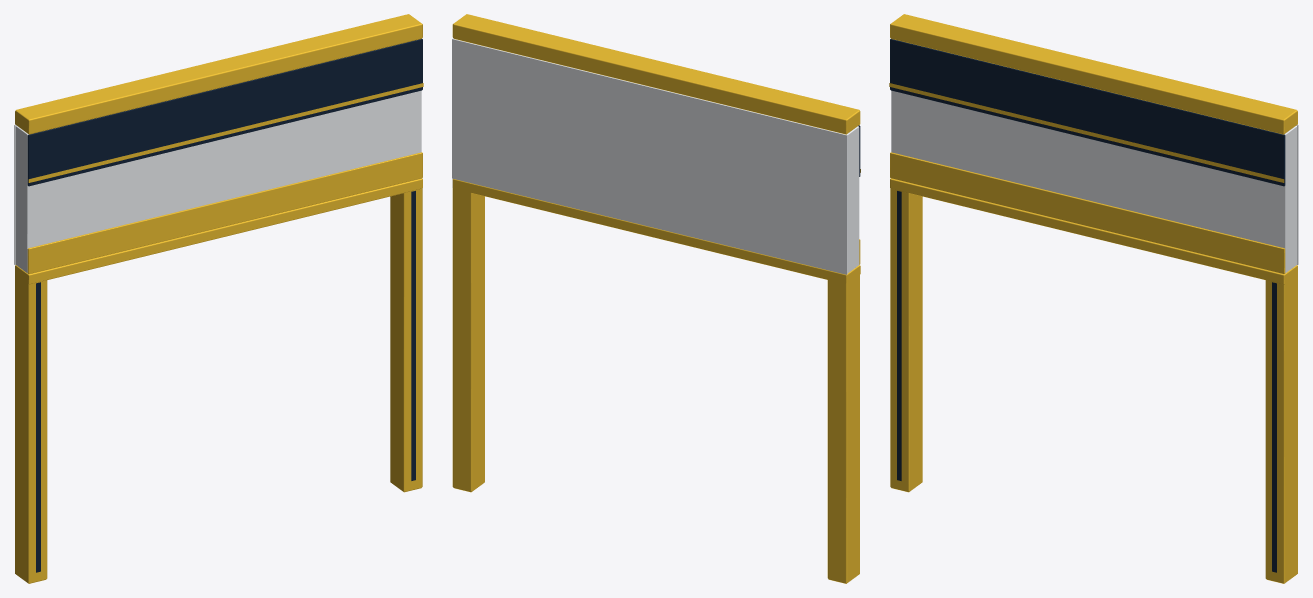
The model's file is CM_Shell_DoorFrame_Luxury.fbx.
3 renders of one model, left to right at view 1: azimuth 30°, elevation 25°; view 2: azimuth 150°, elevation 25°; view 3: azimuth 330°, elevation 25°, orthographic.
Visible parts, largest first — view 1: Body; view 2: Body; view 3: Body.
Part boxes in pixels (bbox=[...]): Body: bbox=[14, 14, 423, 583]; Body: bbox=[452, 14, 860, 583]; Body: bbox=[889, 14, 1298, 583].
Bounding box in the file's own units: 16 × 1 × 18.
Materials: 1 (1 with a texture image).
